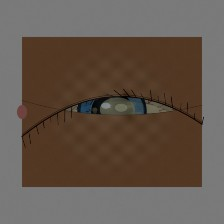corneal_ulcer: (89, 87, 146, 132)
